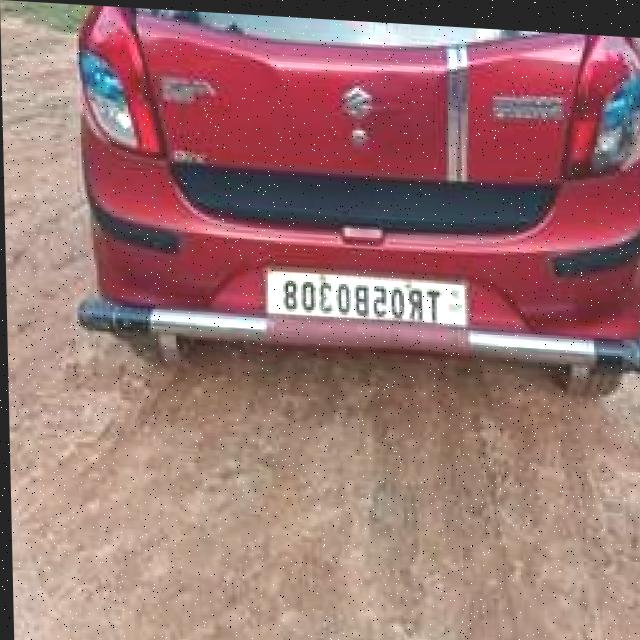plate: (264, 259, 471, 322)
